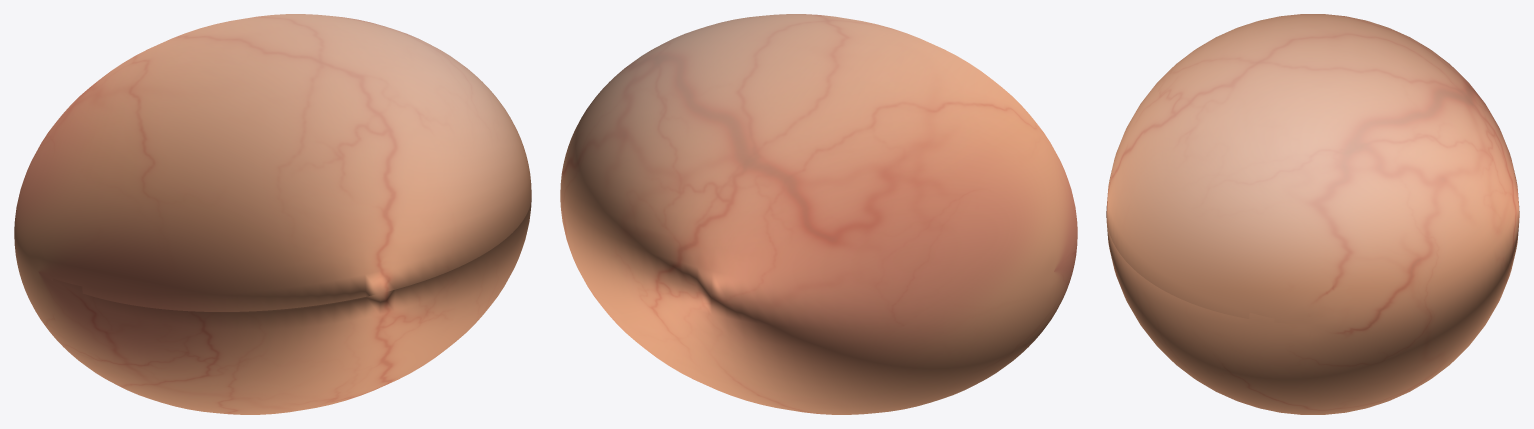
3 renders of one model, left to right at view 1: azimuth 30°, elevation 25°; view 2: azimuth 150°, elevation 25°; view 3: azimuth 270°, elevation 25°, orthographic. The views are drawn at different scales.
Visible parts, largest first — view 1: default; view 2: default; view 3: default.
Boxes of the visible parts, left/top/right/bottom form: default: left=14, top=14, right=531, bottom=414; default: left=560, top=14, right=1077, bottom=414; default: left=1106, top=14, right=1519, bottom=414.
Size of the model in its own units: 8.61 by 6.13 by 6.85.
Materials: 7 (7 with a texture image).
